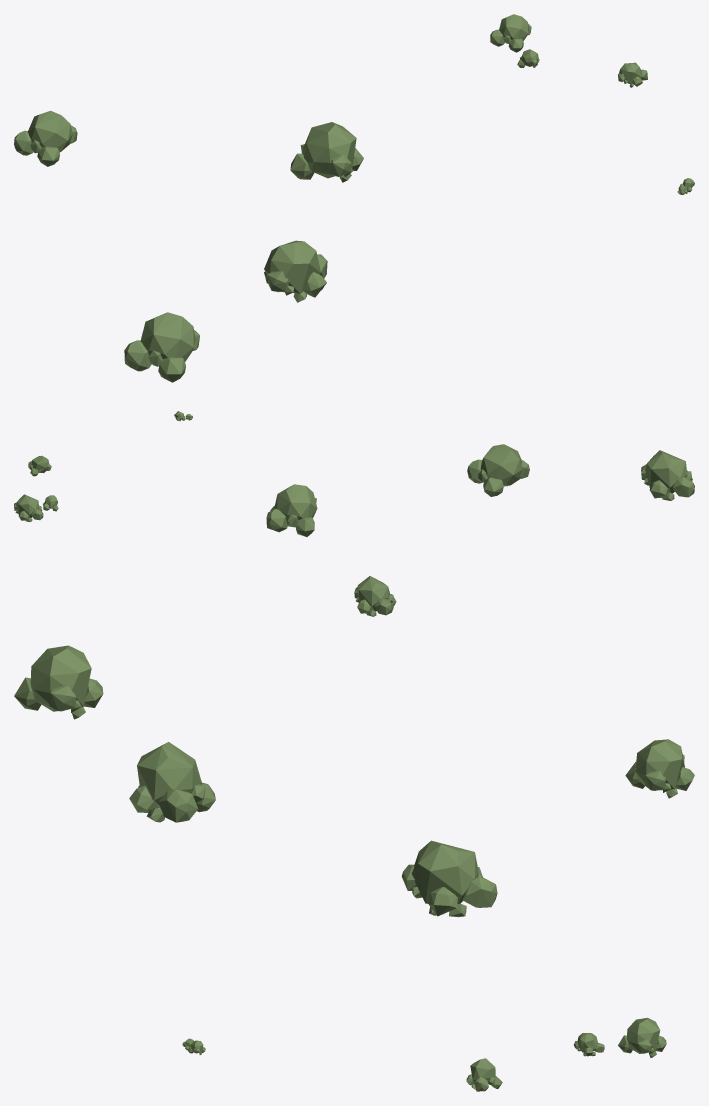
The model's file is mini_rocks.fbx.
The picture shows the model from 3 angles, top to bottom: view 1: azimuth 30°, elevation 25°; view 2: azimuth 150°, elevation 25°; view 3: azimuth 270°, elevation 25°; orthographic projection. The views are drawn at different scales.
Parts seen in each view (by area): view 1: Cube.065; view 2: Cube.065; view 3: Cube.065.
Part boxes in pixels (x1,y1,x2,y2): Cube.065: (14, 14, 694, 382); Cube.065: (14, 411, 694, 616); Cube.065: (14, 645, 694, 1091).
Size of the model in its own units: 0.9772 by 0.0844 by 0.6917.
